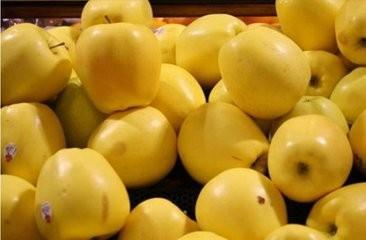apple: (217, 22, 310, 118), (35, 147, 131, 240), (72, 21, 162, 115), (266, 111, 353, 205), (84, 106, 177, 189), (178, 100, 269, 184), (195, 167, 288, 240), (1, 22, 73, 104), (1, 101, 66, 186), (306, 182, 366, 240)
